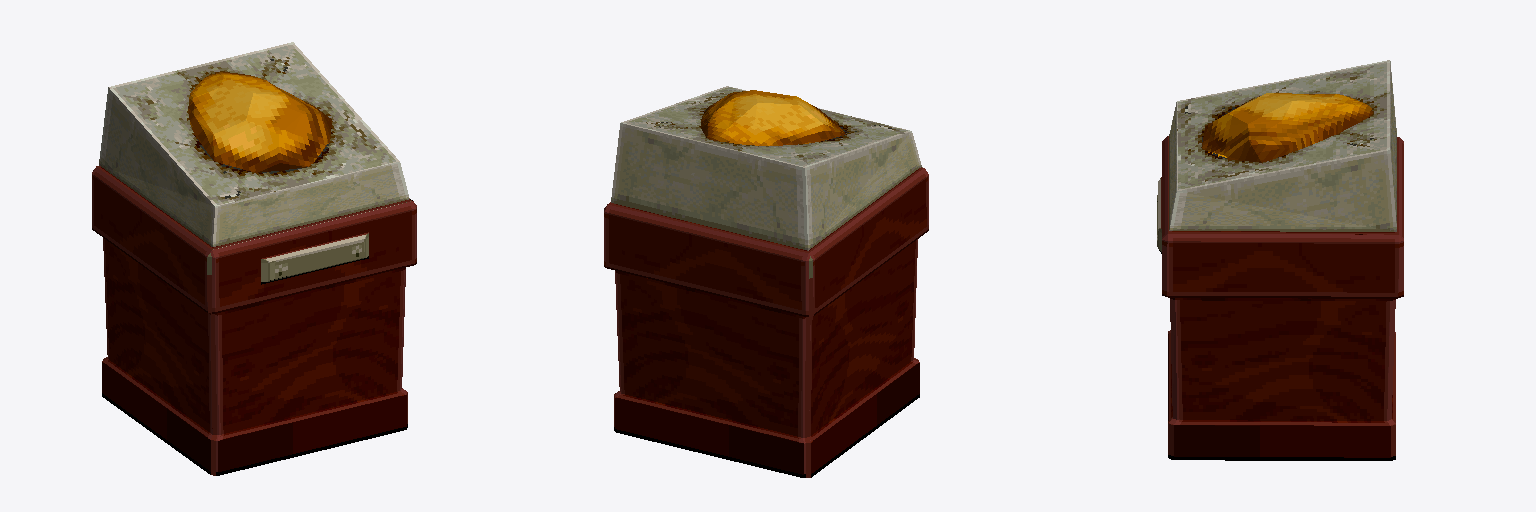
3 renders of one model, left to right at view 1: azimuth 30°, elevation 25°; view 2: azimuth 150°, elevation 25°; view 3: azimuth 270°, elevation 25°, orthographic.
Visible parts, largest first — view 1: polygon2.001_polygon2.001_Material.014, polygon1.003_polygon1.003_Material.010, polygon0.005_polygon0.005_Material.011; view 2: polygon2.001_polygon2.001_Material.014, polygon1.003_polygon1.003_Material.010, polygon0.005_polygon0.005_Material.011; view 3: polygon2.001_polygon2.001_Material.014, polygon1.003_polygon1.003_Material.010, polygon0.005_polygon0.005_Material.011.
Boxes of the visible parts, x1,y1,x2,y2 form: polygon2.001_polygon2.001_Material.014: [92, 166, 416, 475]; polygon1.003_polygon1.003_Material.010: [99, 42, 409, 246]; polygon0.005_polygon0.005_Material.011: [188, 72, 331, 172]; polygon2.001_polygon2.001_Material.014: [604, 167, 928, 477]; polygon1.003_polygon1.003_Material.010: [611, 86, 921, 250]; polygon0.005_polygon0.005_Material.011: [700, 90, 845, 145]; polygon2.001_polygon2.001_Material.014: [1157, 136, 1403, 460]; polygon1.003_polygon1.003_Material.010: [1169, 60, 1396, 231]; polygon0.005_polygon0.005_Material.011: [1201, 93, 1372, 162].
Size of the model in its own units: 0.8258 by 1.18 by 0.8478.
Materials: 3 (3 with a texture image).